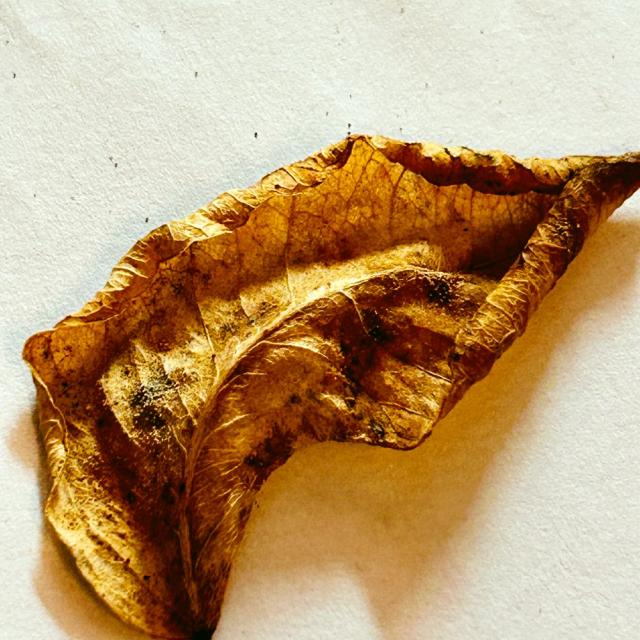DryLeaf_Lemon: (22, 135, 639, 638)
